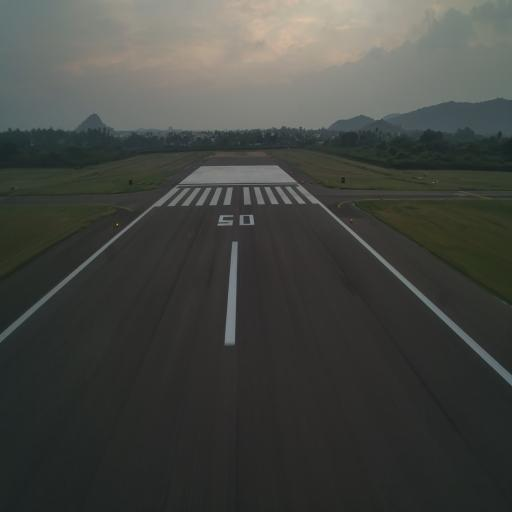on: (349, 216, 354, 226), (114, 220, 120, 228)
